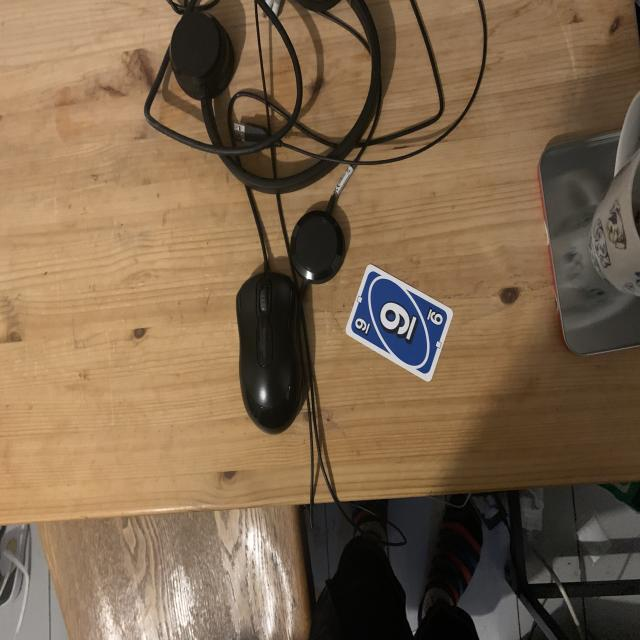lblue-9: (350, 312, 376, 338)
